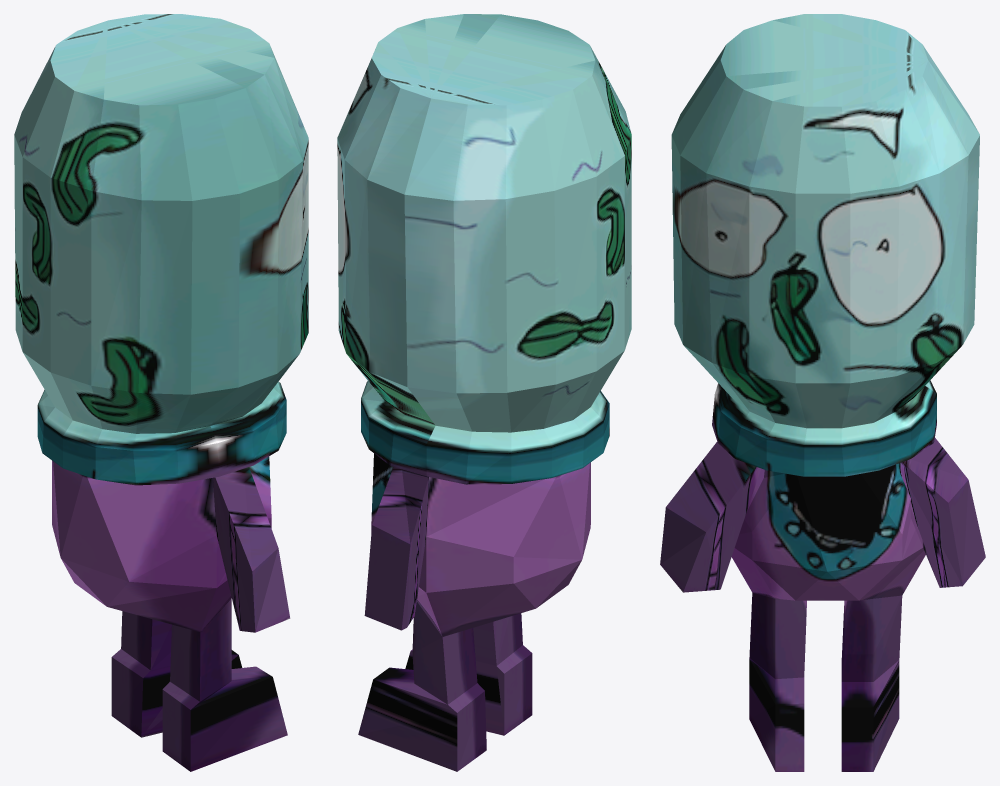
The model's file is Jarguy.glb.
The picture shows the model from 3 angles, left to right: view 1: azimuth 30°, elevation 25°; view 2: azimuth 150°, elevation 25°; view 3: azimuth 270°, elevation 25°; orthographic projection. The views are drawn at different scales.
Parts seen in each view (by area): view 1: Jarguy; view 2: Jarguy; view 3: Jarguy.
Boxes of the visible parts, bbox=[...] form: Jarguy: bbox=[14, 14, 308, 771]; Jarguy: bbox=[337, 14, 631, 771]; Jarguy: bbox=[660, 14, 985, 771].
Size of the model in its own units: 44.16 by 115 by 51.38.
1 material, 1 textured.
